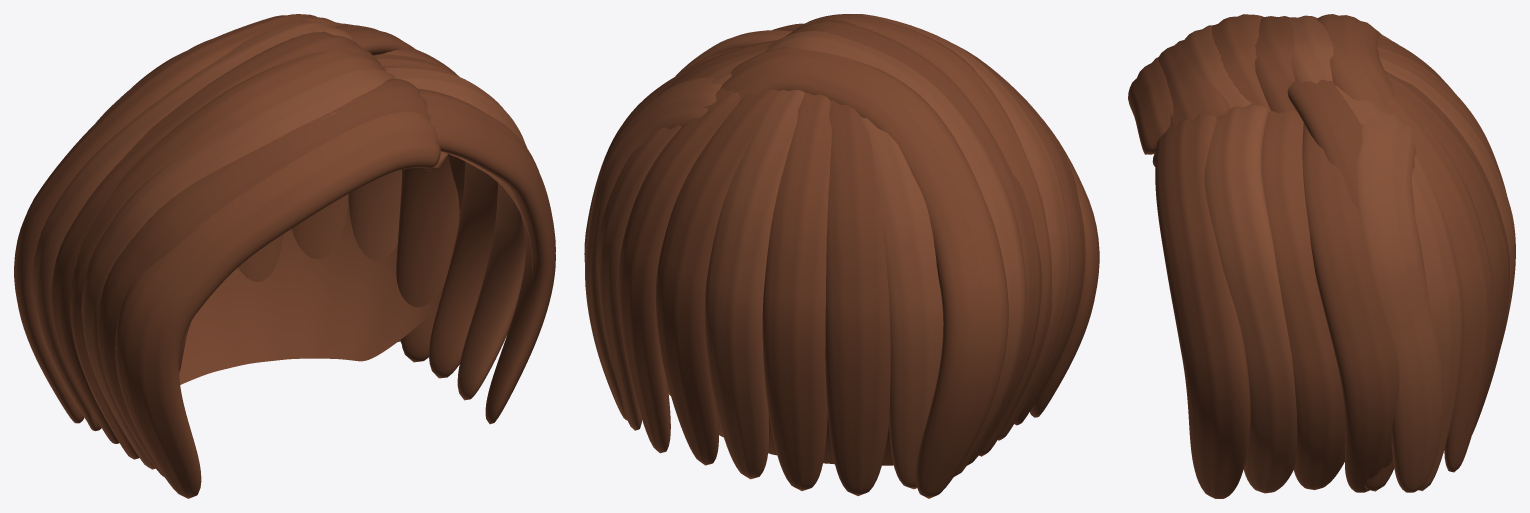
The model's file is Feminine-bob-hair261.glb.
3 renders of one model, left to right at view 1: azimuth 30°, elevation 25°; view 2: azimuth 150°, elevation 25°; view 3: azimuth 270°, elevation 25°, orthographic. The views are drawn at different scales.
Parts seen in each view (by area): view 1: 226 hair / Hair / sculpted 0.004, 226 hair / Hair / sculpted 1.005, 226 hair / Hair / sculpted 2.004, 226 hair / Hair / sculpted 1; view 2: 226 hair / Hair / sculpted 0.004, 226 hair / Hair / sculpted 2.004, 226 hair / Hair / sculpted 1.005, 226 hair / Hair / sculpted 1; view 3: 226 hair / Hair / sculpted 1.005, 226 hair / Hair / sculpted 2.004, 226 hair / Hair / sculpted 0.004.
Boxes of the visible parts, left/top/right/bottom form: 226 hair / Hair / sculpted 0.004: left=14, top=14, right=497, bottom=498; 226 hair / Hair / sculpted 1.005: left=51, top=25, right=555, bottom=476; 226 hair / Hair / sculpted 2.004: left=32, top=20, right=526, bottom=469; 226 hair / Hair / sculpted 1: left=179, top=153, right=532, bottom=384; 226 hair / Hair / sculpted 0.004: left=618, top=14, right=1099, bottom=498; 226 hair / Hair / sculpted 2.004: left=585, top=14, right=1070, bottom=489; 226 hair / Hair / sculpted 1.005: left=584, top=14, right=1085, bottom=495; 226 hair / Hair / sculpted 1: left=667, top=384, right=893, bottom=465; 226 hair / Hair / sculpted 1.005: left=1155, top=16, right=1509, bottom=498; 226 hair / Hair / sculpted 2.004: left=1179, top=15, right=1515, bottom=493; 226 hair / Hair / sculpted 0.004: left=1128, top=14, right=1506, bottom=489.
Size of the model in its own units: 1.02 by 0.8675 by 0.7806.
